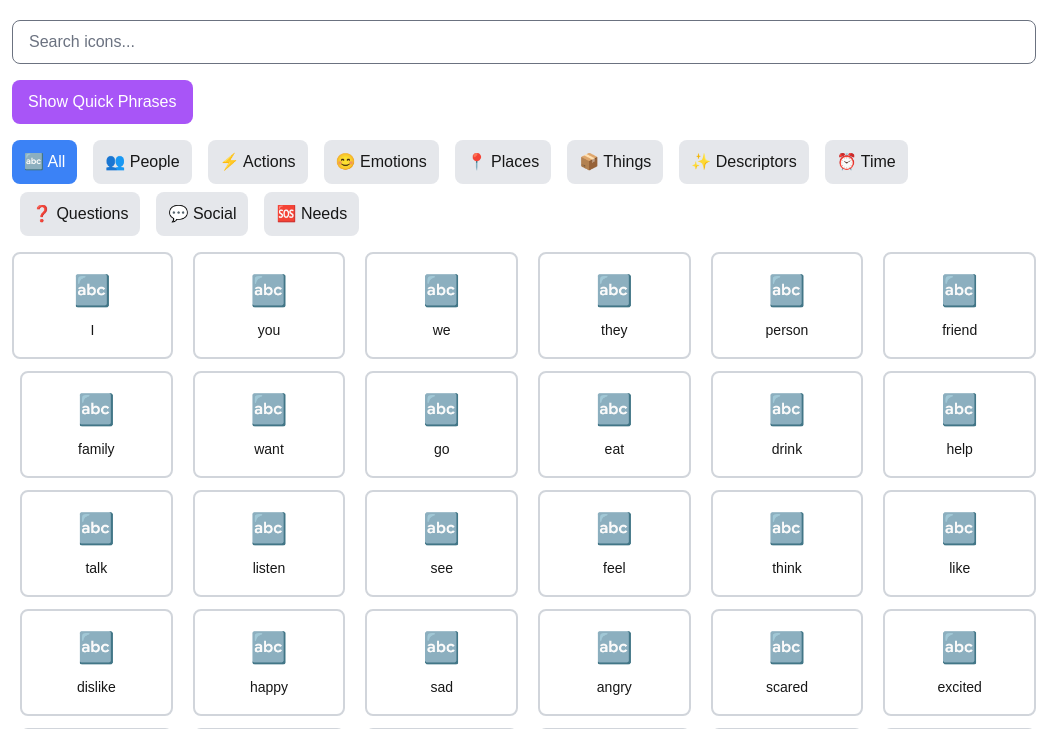
Scenario: AACIconSelector › Accessibility › should have proper button labels
Note: Add an icon to enable buttons
Click the button named "add I to sentence". click: (92,306)
box: [12,252,173,359]
(page scrolled)
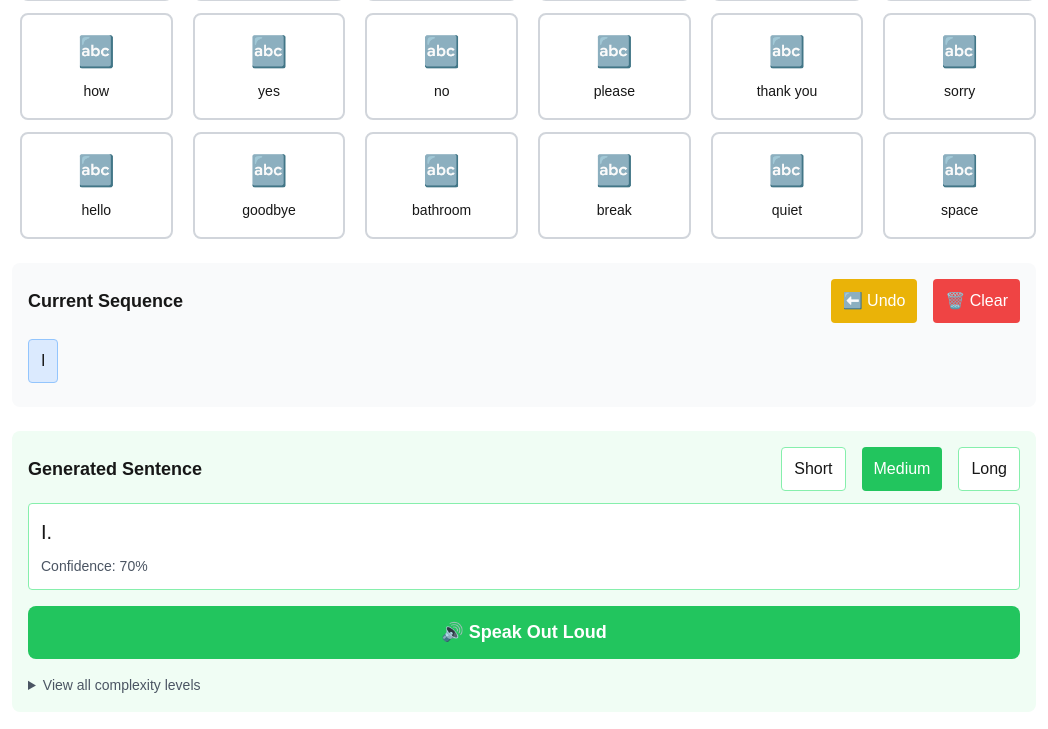
Expected: the button with aria-label "remove last item" is shown, [831,279,917,323]
Now the button with aria-label "speak sentence aloud" is shown, box [28,606,1020,659]
